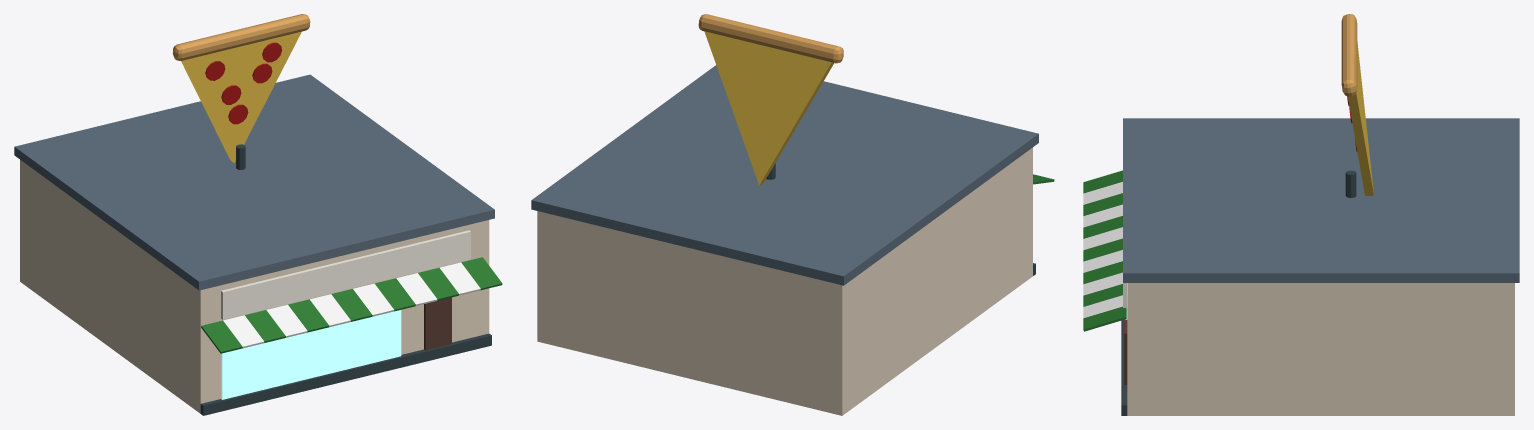
Rendered from town_pizza.glb.
The picture shows the model from 3 angles, left to right: view 1: azimuth 30°, elevation 25°; view 2: azimuth 150°, elevation 25°; view 3: azimuth 270°, elevation 25°; orthographic projection. The views are drawn at different scales.
Visible parts, largest first — view 1: TownPizza_body; view 2: TownPizza_body; view 3: TownPizza_body.
Part boxes in pixels (x1=…): TownPizza_body: x1=14, y1=14, x2=502, y2=415; TownPizza_body: x1=531, y1=14, x2=1054, y2=415; TownPizza_body: x1=1083, y1=14, x2=1519, y2=415.
Size of the model in its own units: 12.3 by 10.85 by 14.62.
